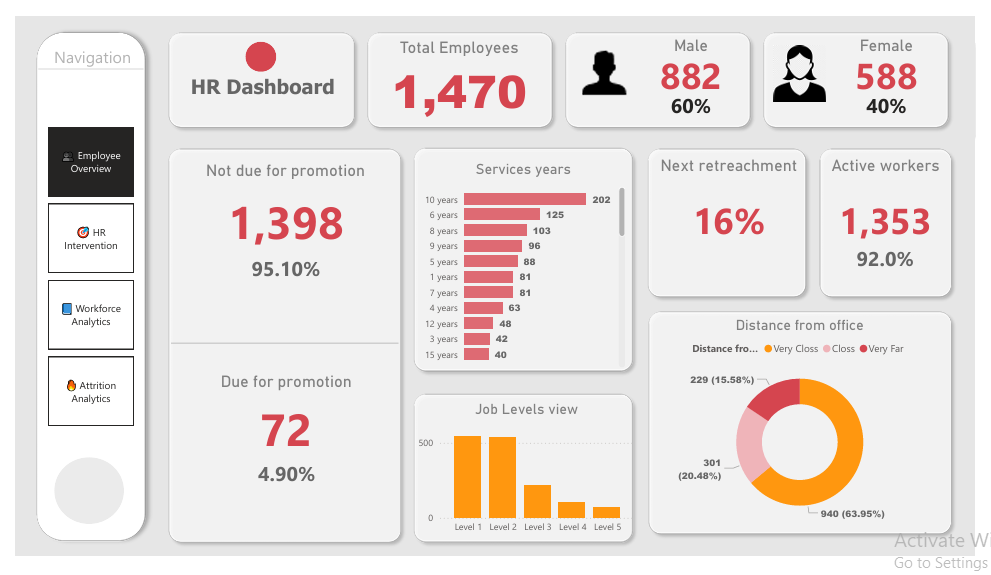

Layout of this report page (visuals, bound fields, positions):
{"tool":"powerbi","page":{"name":"👥 Employee Overview","canvas":[1280,720],"ordinal":0},"visuals":[{"type":"shape","box":[16.5,9.6,166.5,699.2],"z":0},{"type":"shape","box":[195.4,12.4,264.3,143.1],"z":1000},{"type":"shape","box":[459.7,12.4,264.3,143.1],"z":2000},{"type":"shape","box":[724,12.4,264.3,143.1],"z":3000},{"type":"shape","box":[988.2,12.4,264.3,143.1],"z":4000},{"type":"shape","box":[195.4,166.5,326.2,542.3],"z":5000},{"type":"shape","box":[521.6,166.2,309.7,315.2],"z":6000},{"type":"shape","box":[521.6,494.1,309.7,214.7],"z":7000},{"type":"shape","box":[834.8,384.2,421.6,314.1],"z":8000},{"type":"shape","box":[833.6,166.7,228.3,215],"z":9000},{"type":"shape","box":[1063.1,166.7,193.3,215],"z":10000},{"type":"textbox","box":[209.7,71.2,238.7,51.4],"z":11000},{"type":"textbox","box":[36.9,33,130.5,51.4],"z":12000},{"type":"shape","box":[305.9,33,40.9,39.6],"z":13000},{"type":"card","title":"Total Employees","fields":{"Values":["All Measures.Total Emp"]},"box":[468,27.5,246.4,112.9],"z":14000},{"type":"card","title":"Male","fields":{"Values":["All Measures.Male"]},"box":[814.8,26.2,170.7,75.7],"z":15000},{"type":"card","fields":{"Values":["All Measures.Male %"]},"box":[834.1,90.8,132.1,55.1],"z":16000},{"type":"card","title":"Female","fields":{"Values":["All Measures.Female"]},"box":[1068.7,26.2,183.1,75.7],"z":17000},{"type":"card","fields":{"Values":["All Measures.Female %"]},"box":[1083.9,90.8,152.8,53.7],"z":18000},{"type":"image","box":[736.3,26.2,95,90.8],"z":19000},{"type":"image","box":[1004.7,33,79.8,84],"z":20000},{"type":"card","title":"Active workers","fields":{"Values":["All Measures.On service"]},"box":[1058.3,186,203,142.6],"z":21000},{"type":"card","fields":{"Values":["All Measures.% Active workers"]},"box":[1082.4,296,153.4,53.2],"z":22000},{"type":"card","title":"Next retreachment","fields":{"Values":["All Measures.Attrition Rate"]},"box":[843.2,186,215,142.6],"z":23000},{"type":"columnChart","title":"Job Levels view","fields":{"Category":["HR Analytics Data.Job Level"],"Y":["All Measures.Total Emp"]},"box":[531.3,512,300,185.8],"z":24000},{"type":"barChart","title":"Services years","fields":{"Category":["HR Analytics Data.Total working Years"],"Y":["All Measures.Total Emp"]},"box":[536.4,192.1,280.3,280.3],"z":25000},{"type":"donutChart","title":"Distance from office","fields":{"Category":["HR Analytics Data.Distance from office"],"Y":["All Measures.Total Emp"]},"box":[840.8,399.9,408.3,282.7],"z":26000},{"type":"card","title":"Not due for promotion","fields":{"Values":["All Measures.Not Due"]},"box":[207.8,192.1,303.2,130.5],"z":27000},{"type":"card","title":"Due for promotion","fields":{"Values":["All Measures.Due for promotion"]},"box":[209,473.8,303.2,119.6],"z":28000},{"type":"shape","box":[206.6,427.7,303.2,14.5],"z":29000},{"type":"card","fields":{"Values":["All Measures.% Not due for promotion"]},"box":[283.5,309.7,152.8,53.7],"z":30000},{"type":"card","fields":{"Values":["All Measures.% Due for promotion"]},"box":[285.1,582.5,152.2,53.2],"z":31000},{"type":"shape","box":[51.4,586.8,92.3,89.7],"z":32000},{"type":"shape","box":[30.2,61.6,140.1,15.7],"z":33000},{"type":"pageNavigator","box":[42.9,147.1,114.3,400],"z":34000}]}

Visuals, with their boxes on the page's 1280x720 design canvas (x1, y1, x2, y2). These are canvas units, not pixel positions in the 991x575 screenshot, which may show the page scaled, cropped or inside an application window:
shape: 16, 10, 183, 709
shape: 195, 12, 460, 156
shape: 460, 12, 724, 156
shape: 724, 12, 988, 156
shape: 988, 12, 1252, 156
shape: 195, 166, 522, 709
shape: 522, 166, 831, 481
shape: 522, 494, 831, 709
shape: 835, 384, 1256, 698
shape: 834, 167, 1062, 382
shape: 1063, 167, 1256, 382
textbox: 210, 71, 448, 123
textbox: 37, 33, 167, 84
shape: 306, 33, 347, 73
"Total Employees" card: 468, 28, 714, 140
"Male" card: 815, 26, 986, 102
card - All Measures.Male %: 834, 91, 966, 146
"Female" card: 1069, 26, 1252, 102
card - All Measures.Female %: 1084, 91, 1237, 144
image: 736, 26, 831, 117
image: 1005, 33, 1084, 117
"Active workers" card: 1058, 186, 1261, 329
card - All Measures.% Active workers: 1082, 296, 1236, 349
"Next retreachment" card: 843, 186, 1058, 329
"Job Levels view" columnChart: 531, 512, 831, 698
"Services years" barChart: 536, 192, 817, 472
"Distance from office" donutChart: 841, 400, 1249, 683
"Not due for promotion" card: 208, 192, 511, 323
"Due for promotion" card: 209, 474, 512, 593
shape: 207, 428, 510, 442
card - All Measures.% Not due for promotion: 284, 310, 436, 363
card - All Measures.% Due for promotion: 285, 582, 437, 636
shape: 51, 587, 144, 676
shape: 30, 62, 170, 77
pageNavigator: 43, 147, 157, 547
